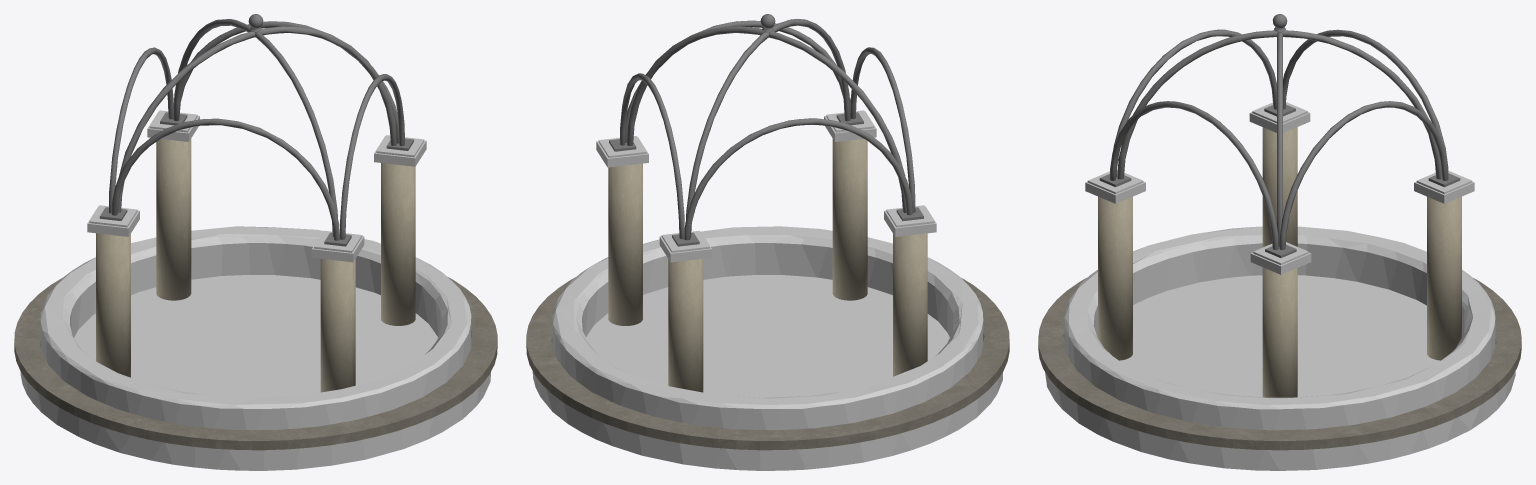
Rendered from [low]planter_center.fbx.
3 views of the same model, side by side, from view 1: azimuth 30°, elevation 25°; view 2: azimuth 150°, elevation 25°; view 3: azimuth 270°, elevation 25° (orthographic).
Parts seen in each view (by area): view 1: PlanterCenterBase, CenterBush, TopPart, Pole1, Pole2, Pole0, Pole3, Cube.001, Cube, Cube.003, Cube.002; view 2: PlanterCenterBase, CenterBush, TopPart, Pole3, Pole2, Pole0, Pole1, Cube.002, Cube, Cube.003, Cube.001; view 3: PlanterCenterBase, CenterBush, TopPart, Pole3, Pole1, Pole2, Pole0, Cube.003, Cube.002, Cube.001, Cube.
Boxes of the visible parts, x1=… form: PlanterCenterBase: x1=14, y1=275, x2=497, y2=470; CenterBush: x1=40, y1=226, x2=471, y2=429; TopPart: x1=109, y1=14, x2=404, y2=240; Pole1: x1=156, y1=139, x2=191, y2=300; Pole2: x1=381, y1=163, x2=415, y2=325; Pole0: x1=96, y1=233, x2=130, y2=377; Pole3: x1=320, y1=258, x2=355, y2=392; Cube.001: x1=311, y1=230, x2=364, y2=262; Cube: x1=87, y1=205, x2=139, y2=236; Cube.003: x1=374, y1=135, x2=426, y2=166; Cube.002: x1=147, y1=110, x2=199, y2=141; PlanterCenterBase: x1=526, y1=275, x2=1009, y2=470; CenterBush: x1=552, y1=226, x2=983, y2=430; TopPart: x1=620, y1=14, x2=915, y2=240; Pole3: x1=832, y1=139, x2=867, y2=300; Pole2: x1=608, y1=163, x2=642, y2=325; Pole0: x1=893, y1=233, x2=927, y2=376; Pole1: x1=668, y1=259, x2=703, y2=392; Cube.002: x1=659, y1=230, x2=712, y2=262; Cube: x1=884, y1=205, x2=936, y2=236; Cube.003: x1=596, y1=136, x2=648, y2=167; Cube.001: x1=824, y1=110, x2=876, y2=141; PlanterCenterBase: x1=1038, y1=275, x2=1521, y2=470; CenterBush: x1=1064, y1=226, x2=1495, y2=430; TopPart: x1=1109, y1=14, x2=1448, y2=249; Pole3: x1=1098, y1=196, x2=1132, y2=360; Pole1: x1=1427, y1=196, x2=1461, y2=360; Pole2: x1=1262, y1=267, x2=1297, y2=397; Pole0: x1=1262, y1=127, x2=1297, y2=247; Cube.003: x1=1250, y1=242, x2=1311, y2=274; Cube.002: x1=1414, y1=170, x2=1474, y2=203; Cube.001: x1=1085, y1=170, x2=1145, y2=203; Cube: x1=1249, y1=102, x2=1310, y2=132.
Size of the model in its own units: 227 by 185 by 227.
